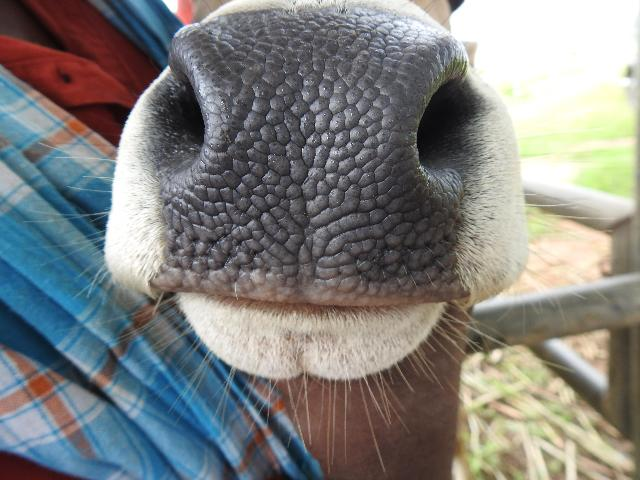Muzzle: (184, 32, 428, 296)
